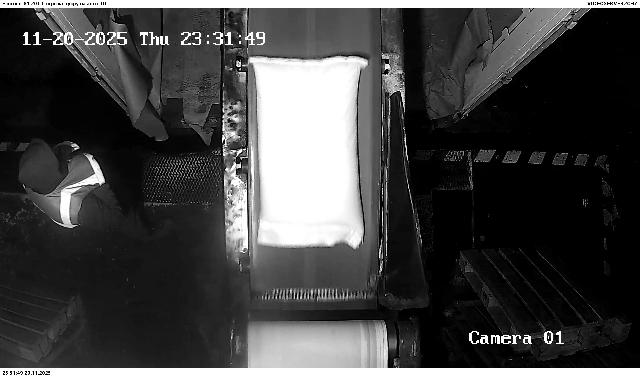bag: (249, 56, 368, 249)
